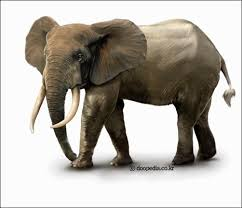Elephant: (16, 7, 236, 175)
